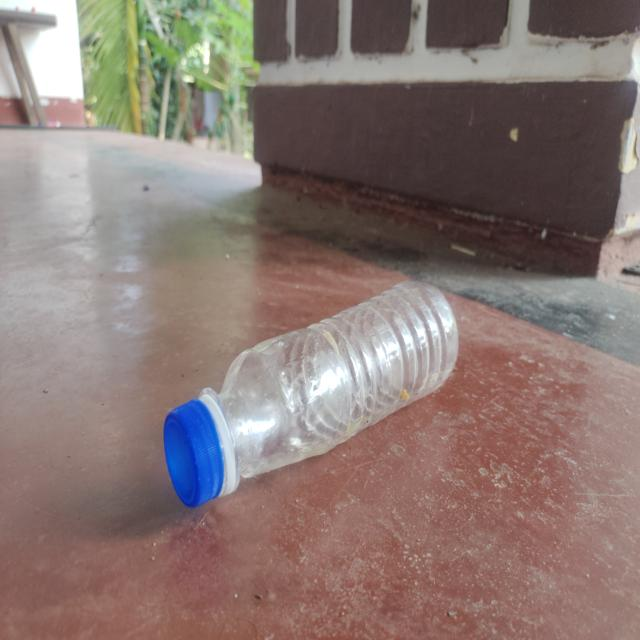plastic: (160, 278, 460, 508)
